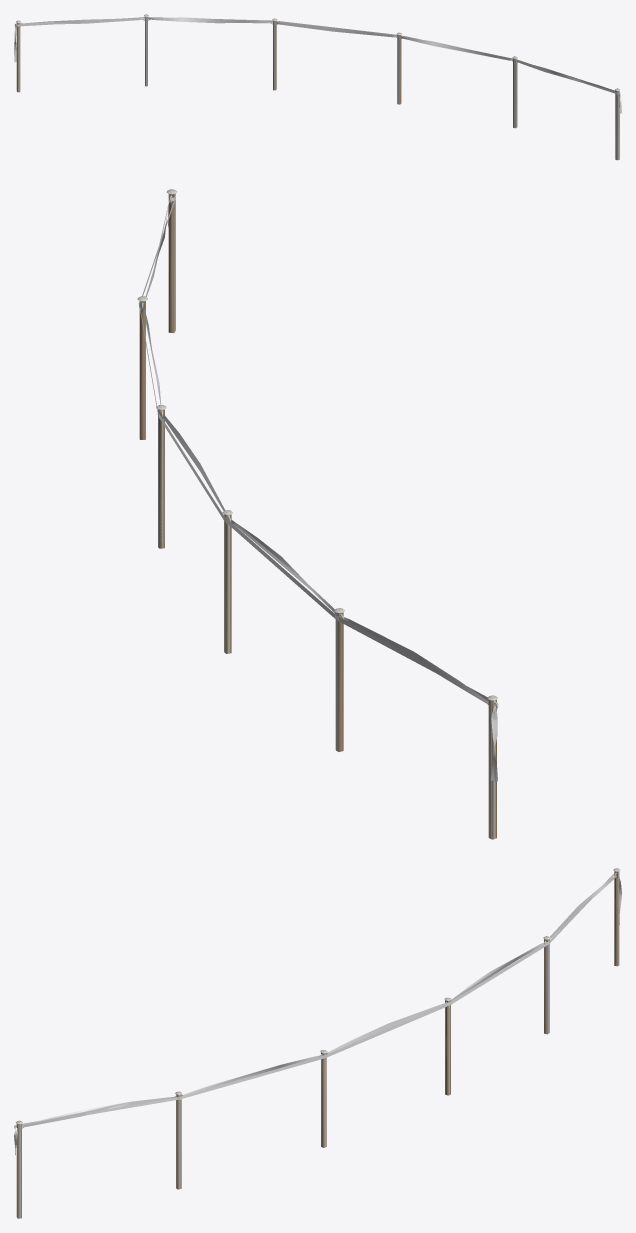
File: ut_race_caution_tape_barricade_b_curve_b.DAE
3 renders of one model, top to bottom at view 1: azimuth 30°, elevation 25°; view 2: azimuth 150°, elevation 25°; view 3: azimuth 270°, elevation 25°, orthographic. The views are drawn at different scales.
Parts seen in each view (by area): view 1: caution_tape_barricade_b_c_c2000, caution_tape_barricade_b_c_c400, caution_tape_barricade_b_c_c1000, caution_tape_barricade_b_c_c100; view 2: caution_tape_barricade_b_c_c400, caution_tape_barricade_b_c_c2000, caution_tape_barricade_b_c_c1000, caution_tape_barricade_b_c_c100; view 3: caution_tape_barricade_b_c_c400, caution_tape_barricade_b_c_c1000, caution_tape_barricade_b_c_c100, caution_tape_barricade_b_c_c2000.
Boxes of the visible parts, x1,y1,x2,y2 form: caution_tape_barricade_b_c_c2000: (14,14,621,159); caution_tape_barricade_b_c_c400: (14,15,621,160); caution_tape_barricade_b_c_c1000: (14,14,621,107); caution_tape_barricade_b_c_c100: (17,17,617,93); caution_tape_barricade_b_c_c400: (138,189,498,839); caution_tape_barricade_b_c_c2000: (137,189,498,839); caution_tape_barricade_b_c_c1000: (137,190,497,838); caution_tape_barricade_b_c_c100: (139,196,487,700); caution_tape_barricade_b_c_c400: (15,868,621,1218); caution_tape_barricade_b_c_c1000: (14,869,620,1218); caution_tape_barricade_b_c_c100: (22,874,613,1124); caution_tape_barricade_b_c_c2000: (14,868,621,1218).
Bounding box in the file's own units: 6.92 × 6.92 × 1.2.
